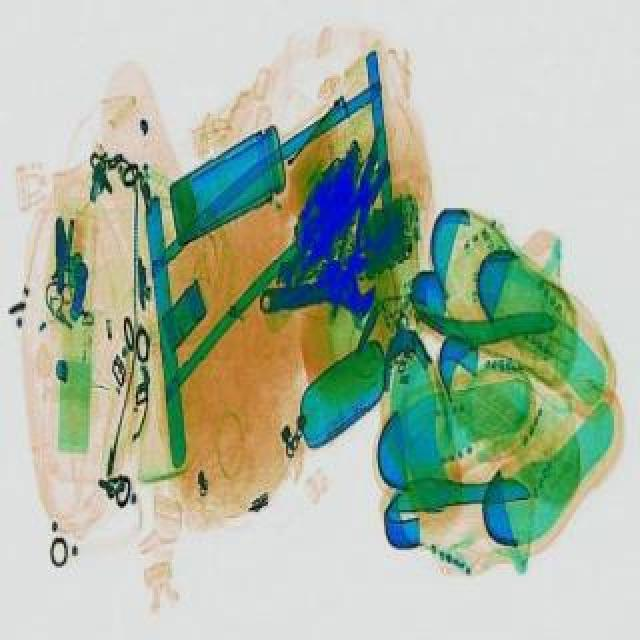scissors: (254, 254, 378, 330)
